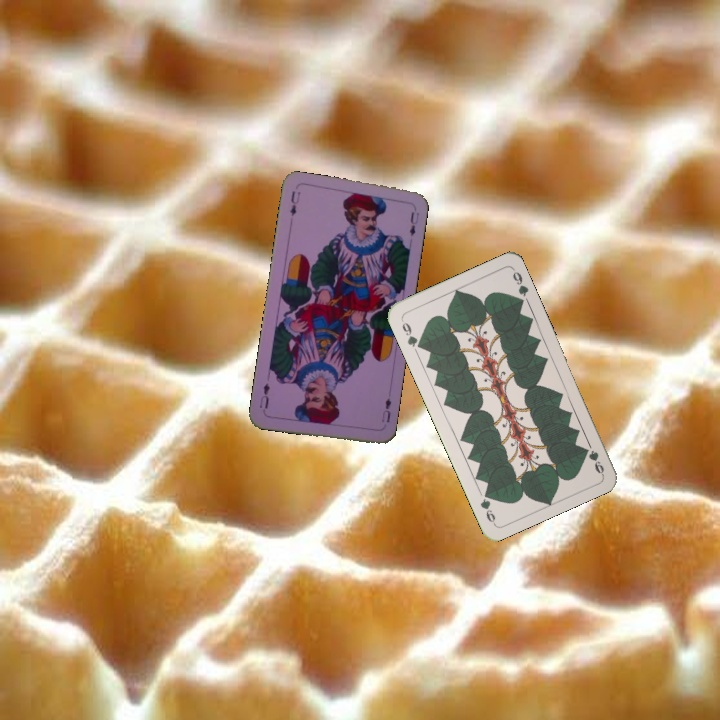EU: (286, 187, 303, 219), (377, 394, 394, 425)
G9: (397, 315, 425, 351), (581, 444, 607, 477)
